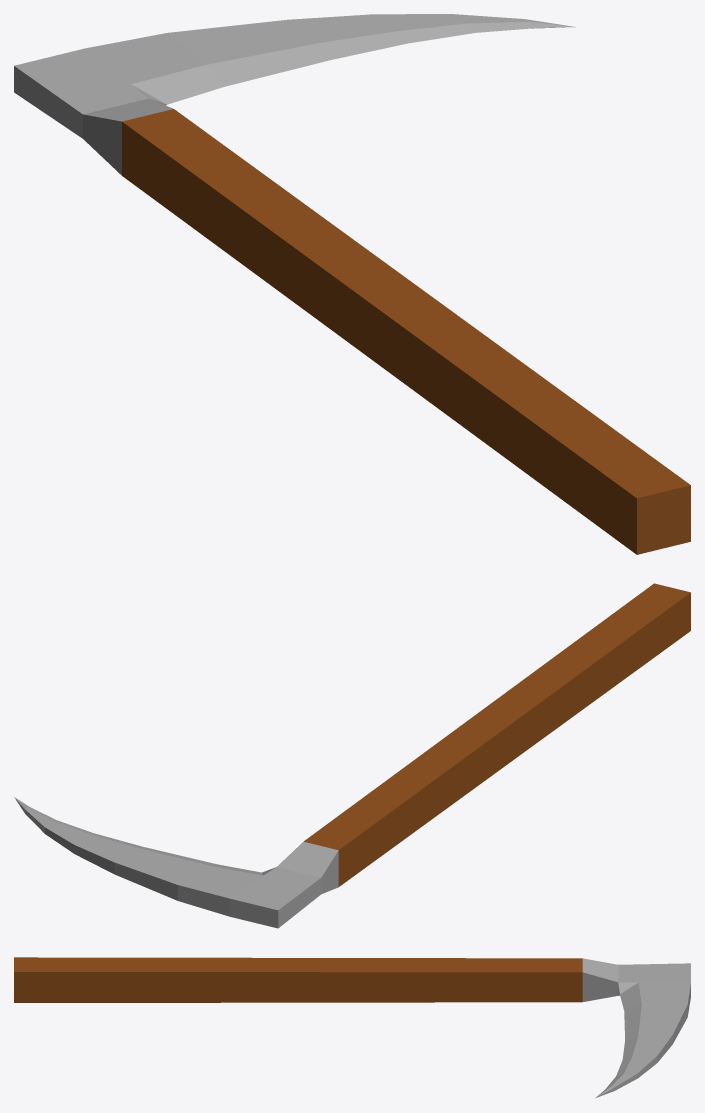
File: Large Kama - Textured Low Poly Asian Weapon Pack by Kickin It Studios.fbx
3 renders of one model, top to bottom at view 1: azimuth 30°, elevation 25°; view 2: azimuth 150°, elevation 25°; view 3: azimuth 270°, elevation 25°, orthographic. The views are drawn at different scales.
Parts seen in each view (by area): view 1: Large Kama; view 2: Large Kama; view 3: Large Kama.
Part boxes in pixels (<box>): Large Kama: <box>14,14,690,554</box>; Large Kama: <box>14,583,690,928</box>; Large Kama: <box>14,957,690,1098</box>.
Bounding box in the file's own units: 300 × 34.12 × 672.
